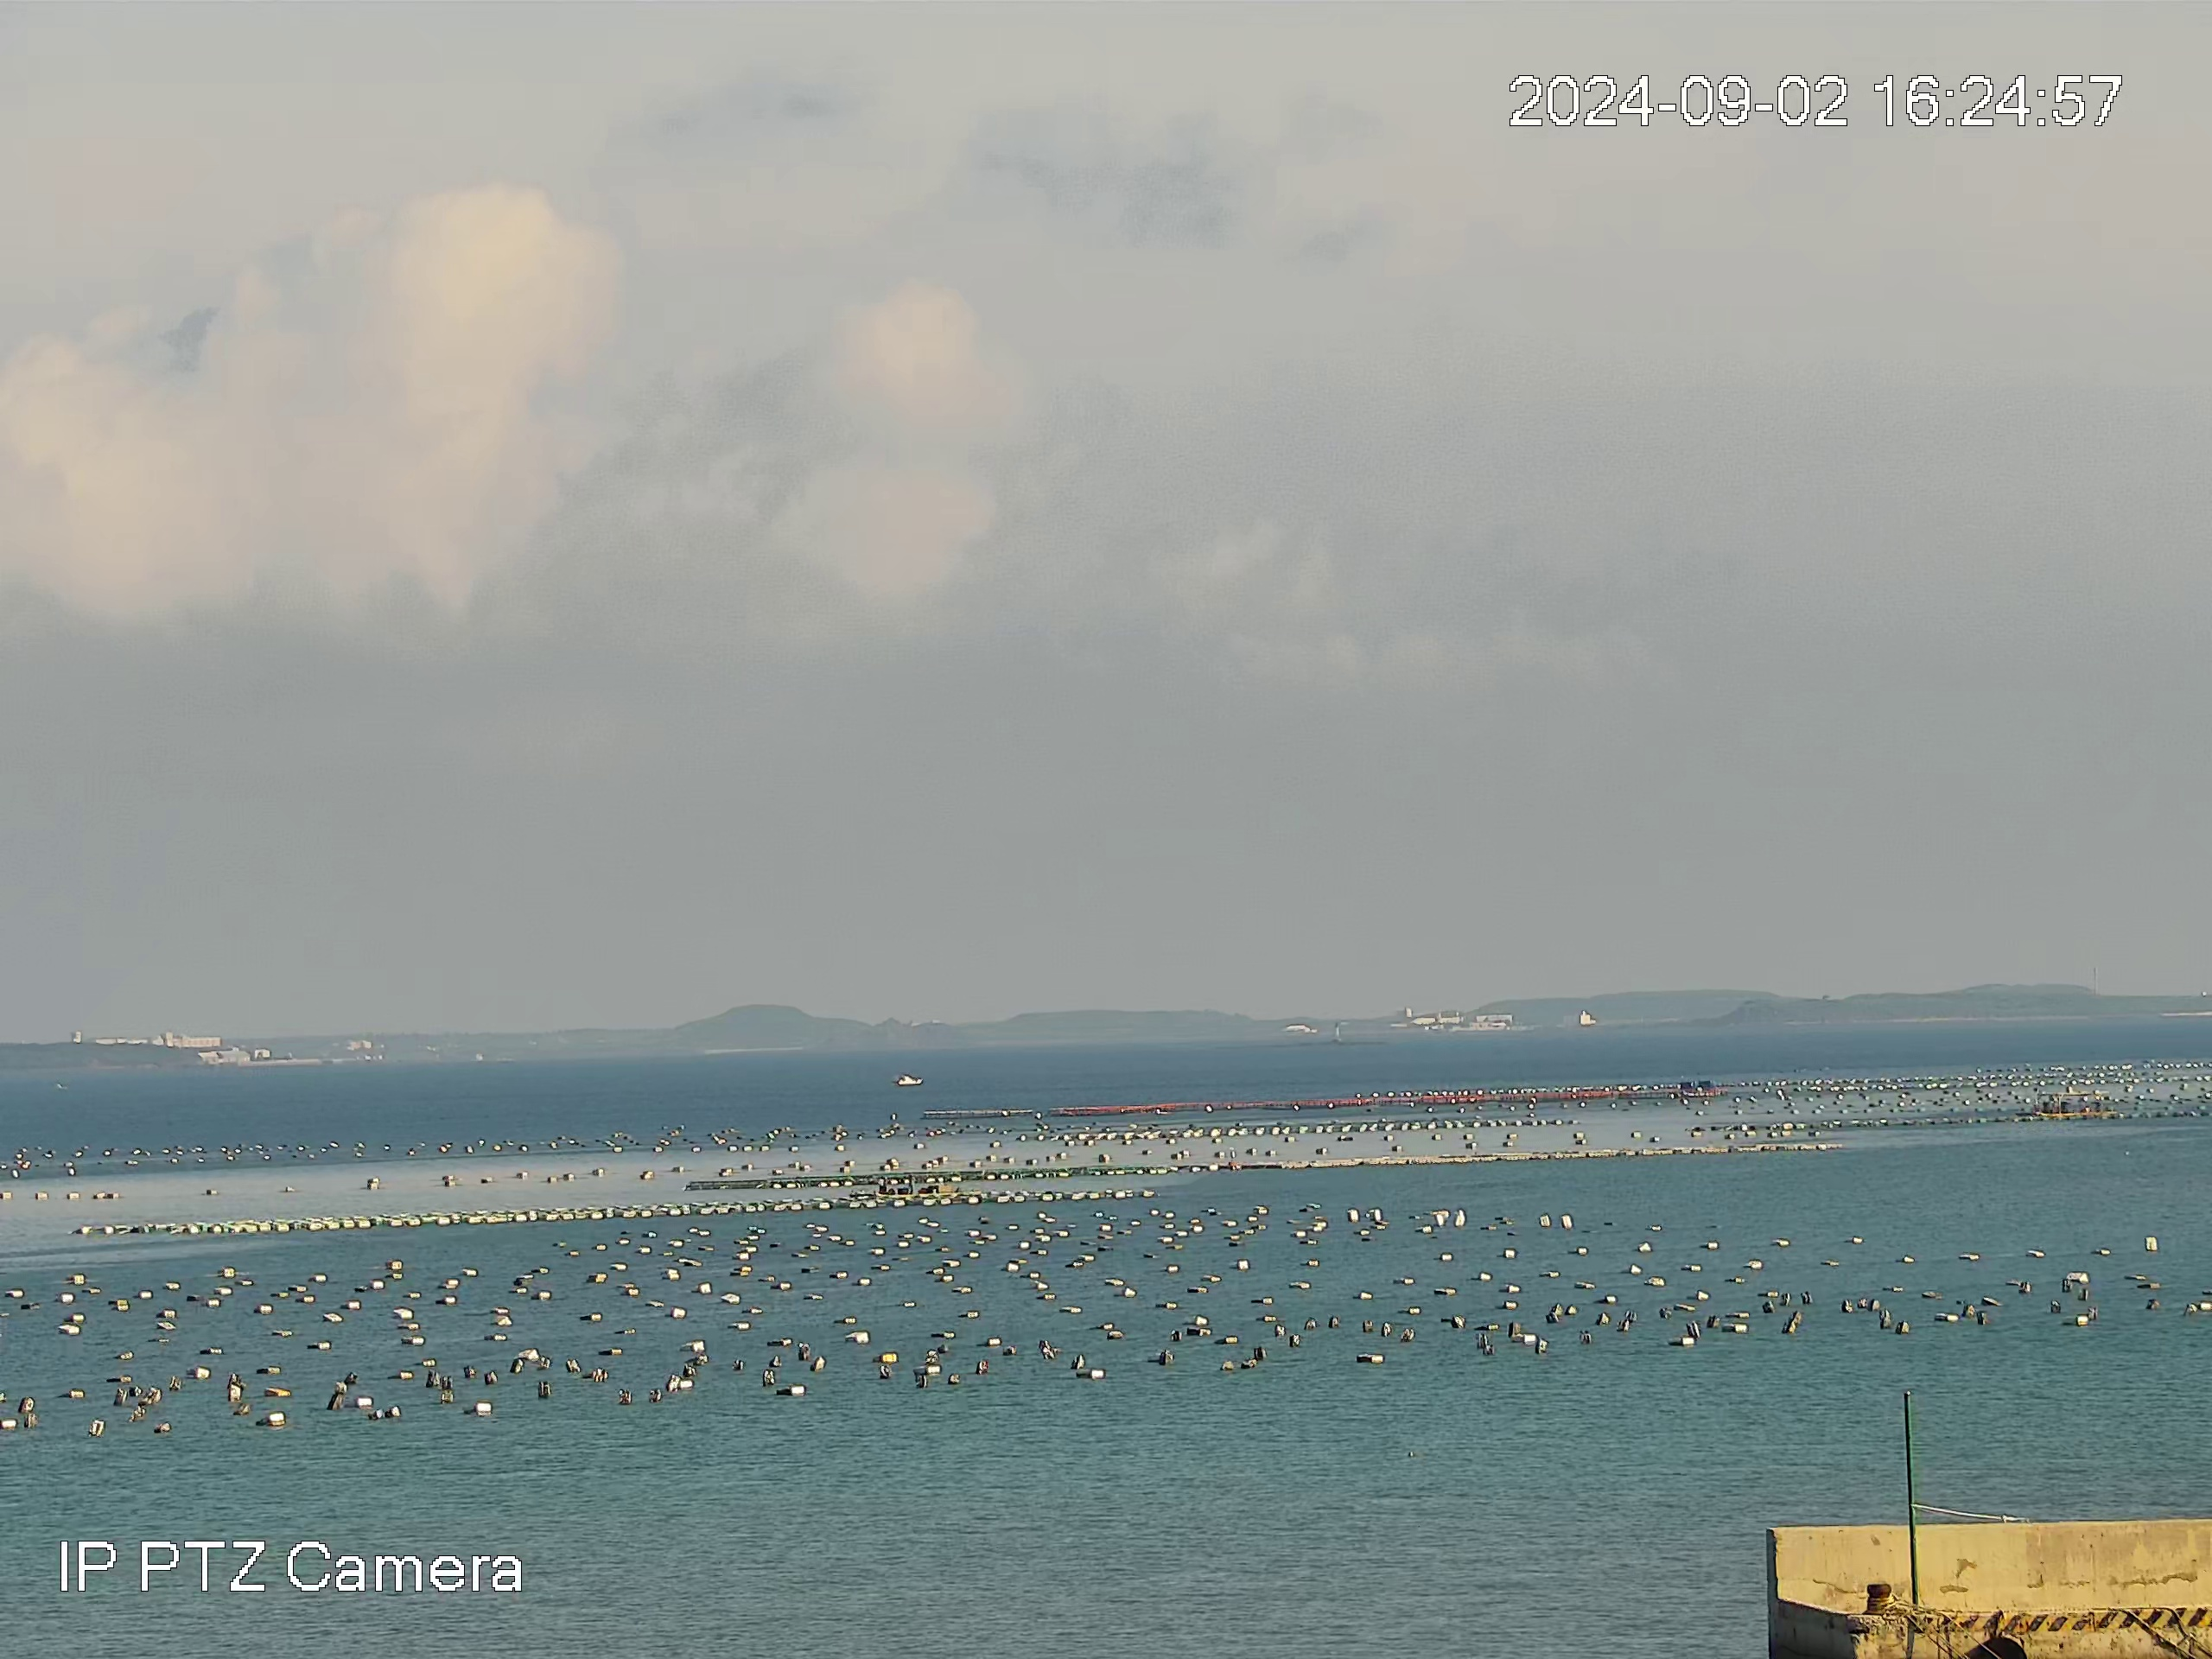boat: (2031, 1089, 2118, 1121), (873, 1175, 960, 1199), (894, 1073, 923, 1087)
